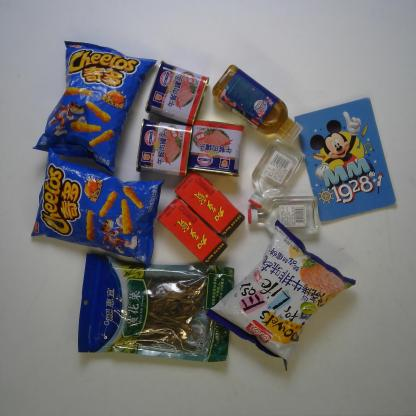Alcohol: (242, 137, 306, 209), (243, 195, 320, 236)
Canned Food: (145, 60, 210, 124), (186, 119, 246, 179), (134, 118, 192, 178)
Dried Food: (77, 252, 236, 362)
Drink: (210, 64, 302, 144), (155, 198, 230, 267), (173, 172, 245, 237)
Puffed Food: (203, 220, 357, 372), (29, 39, 158, 174), (28, 147, 164, 269)
Stationery: (292, 95, 398, 222)
